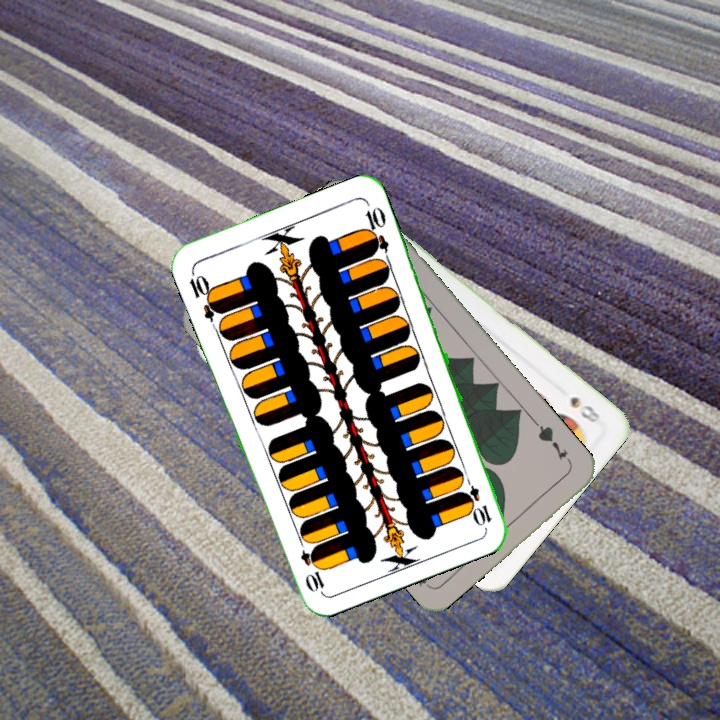E10: (185, 266, 224, 323), (459, 471, 494, 529)
G7: (531, 419, 575, 468)
S8: (566, 392, 603, 425)
